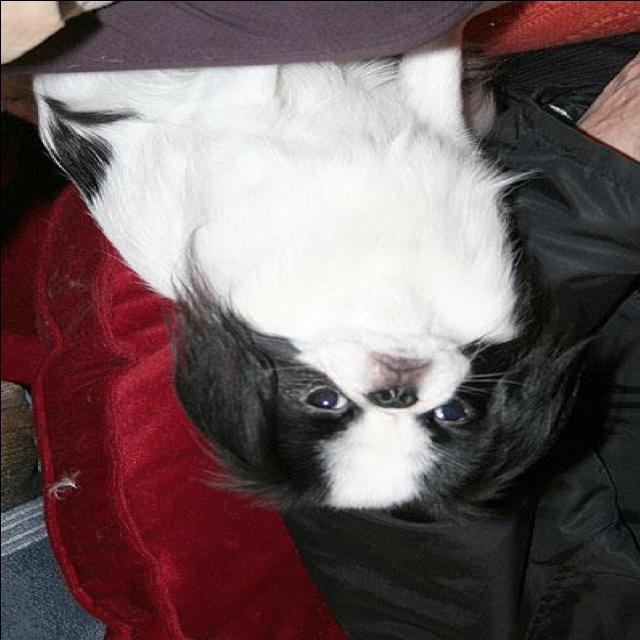husky: (35, 32, 595, 504)
